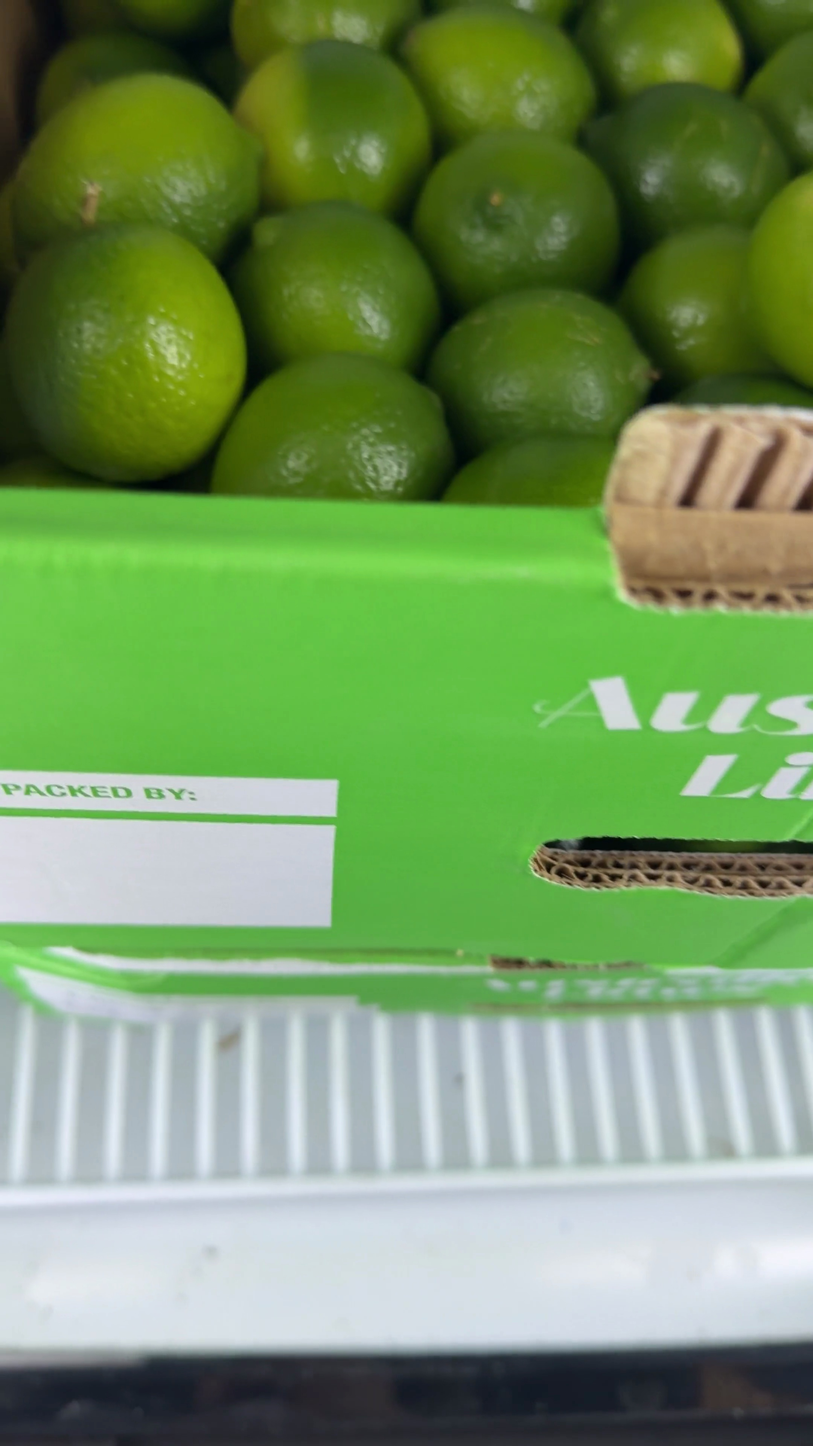lime: (6, 225, 246, 482), (12, 75, 261, 262), (413, 130, 619, 312), (428, 289, 651, 456), (228, 201, 440, 375), (212, 354, 453, 501), (234, 40, 431, 215), (586, 84, 789, 248), (402, 4, 596, 148), (620, 226, 771, 390), (577, 0, 743, 104), (36, 32, 192, 126), (749, 173, 813, 386), (231, 0, 421, 69), (442, 435, 614, 507), (745, 20, 813, 170), (0, 334, 40, 461), (726, 0, 813, 58), (673, 374, 813, 409), (115, 0, 231, 42), (0, 453, 105, 488), (194, 42, 246, 108), (61, 0, 129, 35), (0, 180, 19, 304), (492, 0, 575, 24)
